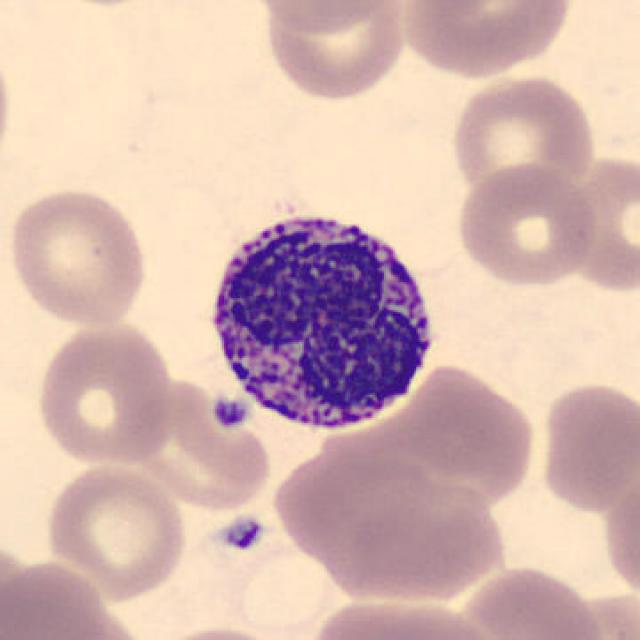Basophil: (196, 194, 446, 444)
Platelets: (218, 513, 268, 554), (210, 393, 252, 432)
RBC: (306, 455, 512, 606), (32, 316, 178, 469), (5, 183, 153, 330), (393, 360, 539, 508), (43, 460, 190, 600), (446, 71, 599, 201), (453, 161, 601, 289), (195, 522, 354, 640), (258, 0, 410, 104), (535, 375, 638, 515), (398, 0, 576, 79), (552, 148, 640, 293), (453, 560, 607, 640), (302, 592, 507, 640), (2, 557, 119, 640), (599, 464, 640, 606), (247, 0, 405, 35), (140, 622, 292, 640), (0, 39, 14, 176)
